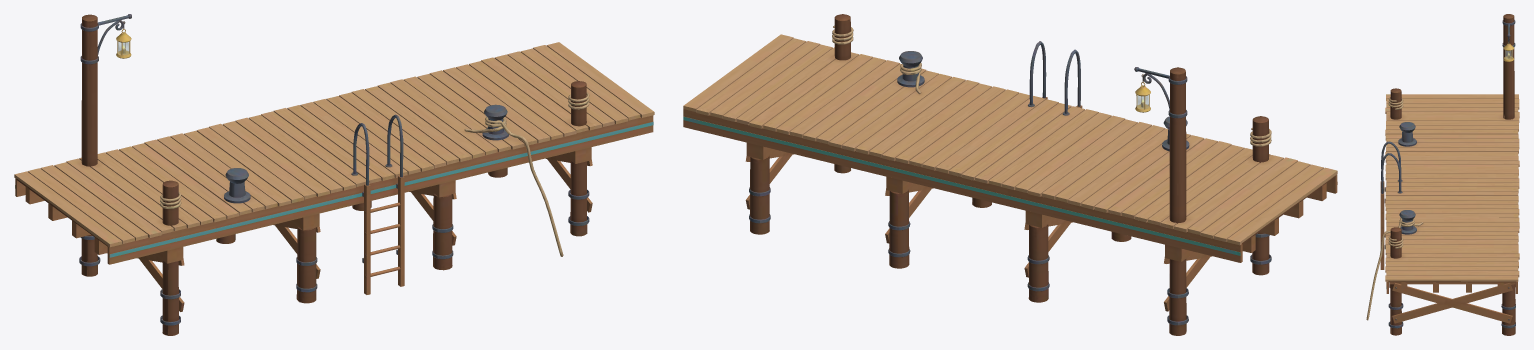
The model's file is muelle.glb.
3 renders of one model, left to right at view 1: azimuth 30°, elevation 25°; view 2: azimuth 150°, elevation 25°; view 3: azimuth 270°, elevation 25°, orthographic. The views are drawn at different scales.
Visible parts, largest first — view 1: wooden-pier_body; view 2: wooden-pier_body; view 3: wooden-pier_body.
Part boxes in pixels (x1=…): wooden-pier_body: x1=14, y1=14, x2=654, y2=335; wooden-pier_body: x1=683, y1=14, x2=1337, y2=335; wooden-pier_body: x1=1366, y1=14, x2=1519, y2=335.
Bounding box in the file's own units: 8 × 3.6 × 2.8.
4 materials, 1 textured.
